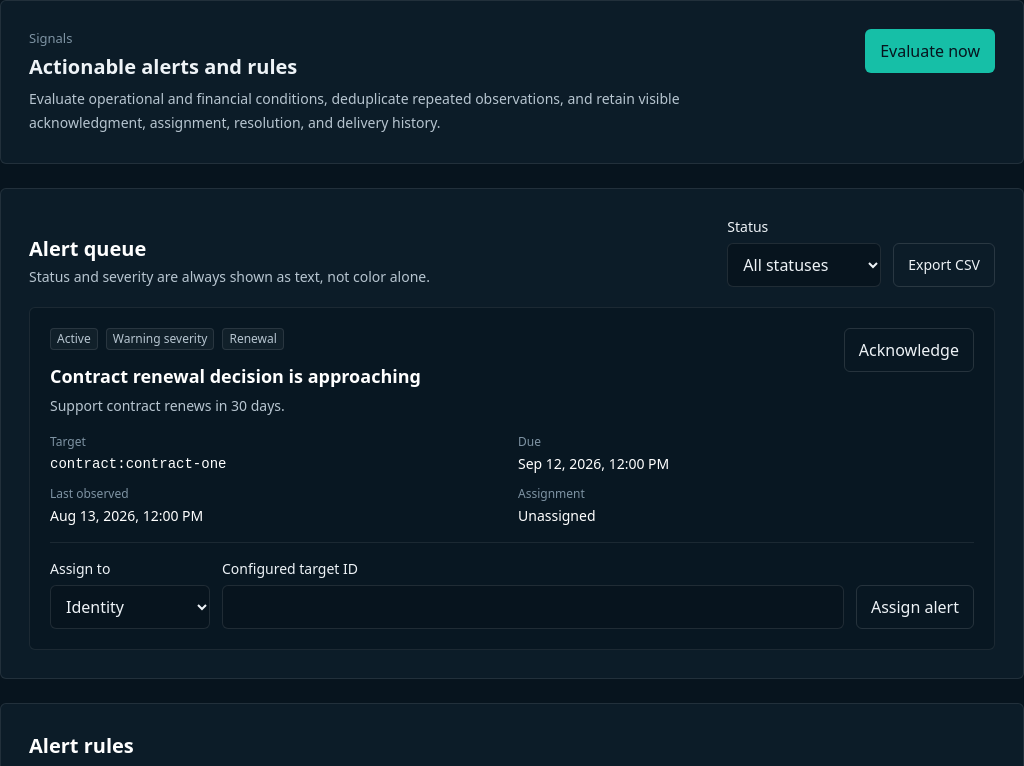
Test: acknowledges and assigns an alert with optimistic revisions
Expected: the heading "Contract renewal decision is approaching" is shown, [50, 362, 421, 390]
Click the button "Acknowledge" at (909, 350), box [844, 328, 974, 372]
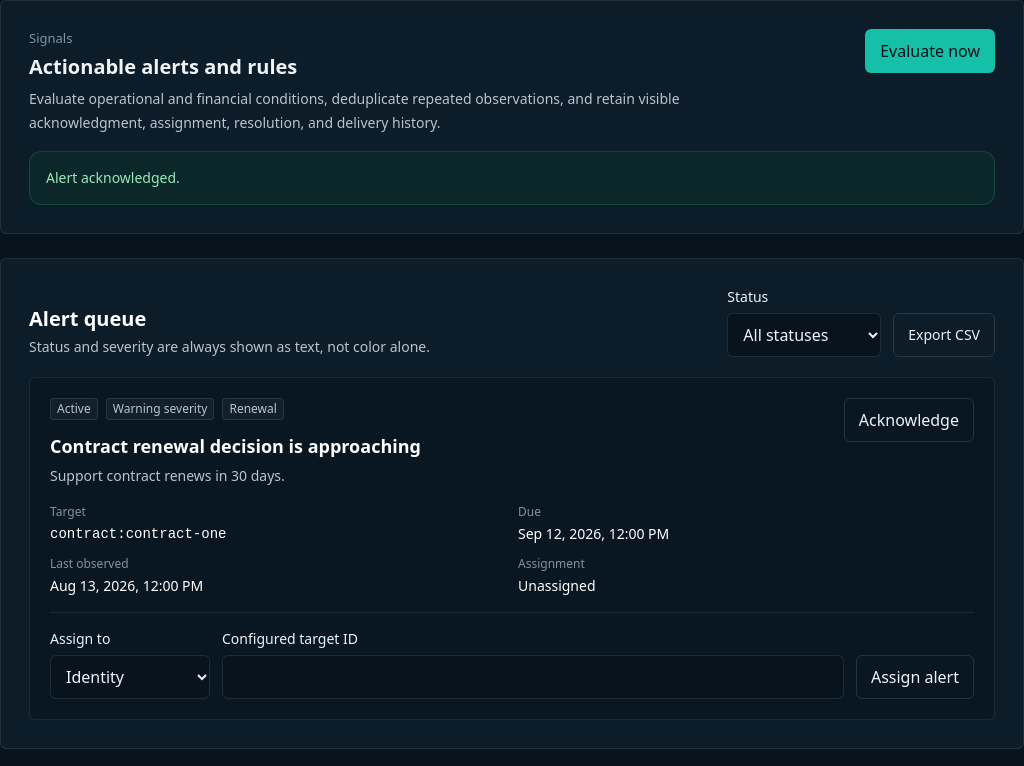
Now the text "Alert acknowledged." is shown, box [29, 150, 995, 204]
Select "Group" in the dropdown labelled "Assign to" at (130, 676), box [50, 654, 210, 698]
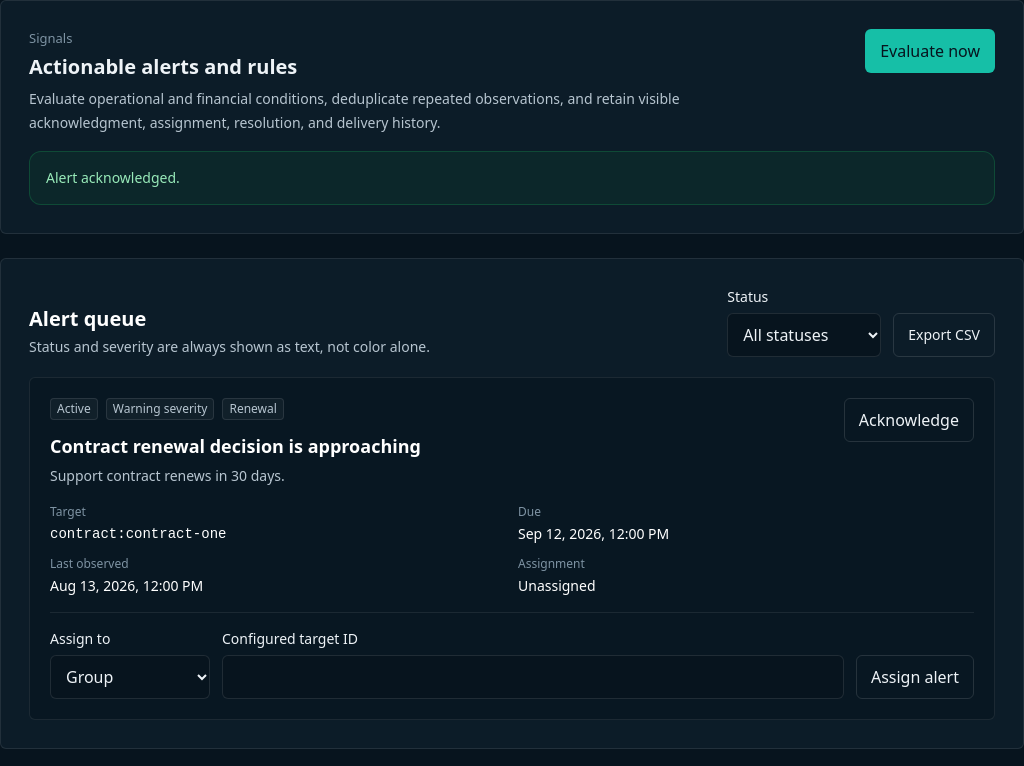
Type "finance-owners" into the field labelled "Configured target ID" at (533, 676), box [222, 654, 844, 698]
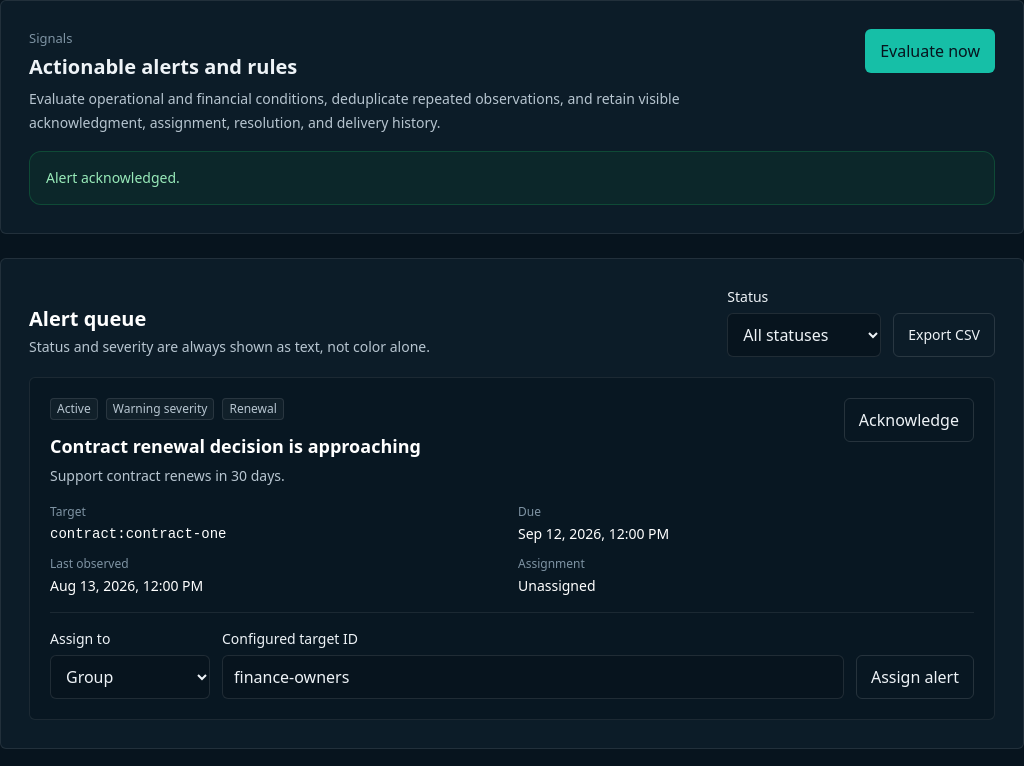
Click the button "Assign alert" at (915, 676), box [856, 654, 974, 698]
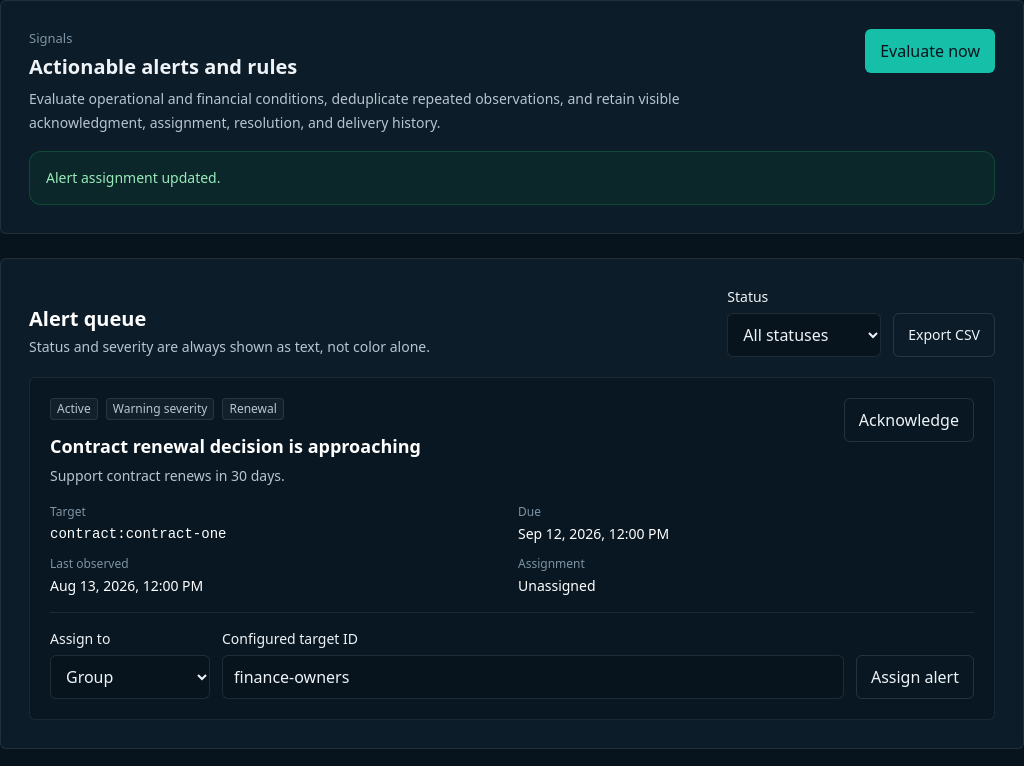
Now the text "Alert assignment updated." is shown, box [29, 150, 995, 204]
